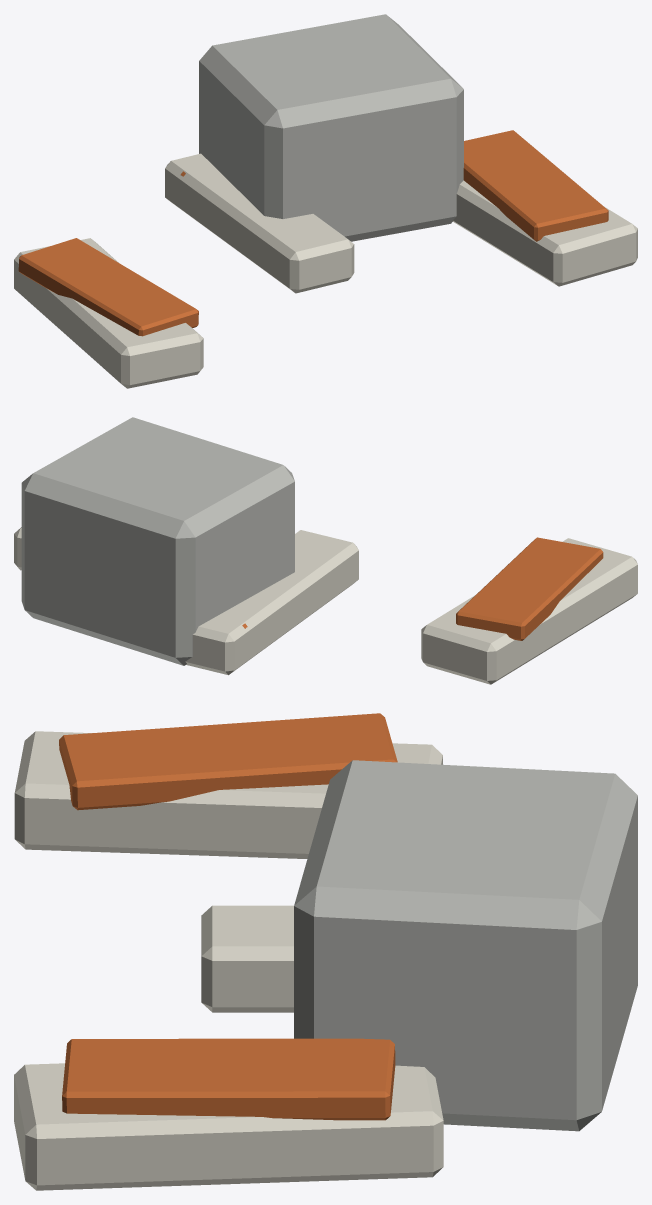
The model's file is PRP_CITY_028_scattered_box_debris.glb.
3 views of the same model, one above another, from view 1: azimuth 30°, elevation 25°; view 2: azimuth 150°, elevation 25°; view 3: azimuth 270°, elevation 25° (orthographic). The views are drawn at different scales.
Visible parts, largest first — view 1: PRP_CITY_028_scattered_box_debris_RenderMesh; view 2: PRP_CITY_028_scattered_box_debris_RenderMesh; view 3: PRP_CITY_028_scattered_box_debris_RenderMesh.
Part boxes in pixels (x1,y1,x2,y2): PRP_CITY_028_scattered_box_debris_RenderMesh: (14, 14, 637, 388); PRP_CITY_028_scattered_box_debris_RenderMesh: (14, 417, 637, 684); PRP_CITY_028_scattered_box_debris_RenderMesh: (14, 713, 637, 1190).
Size of the model in its own units: 1.04 by 0.28 by 0.684.
